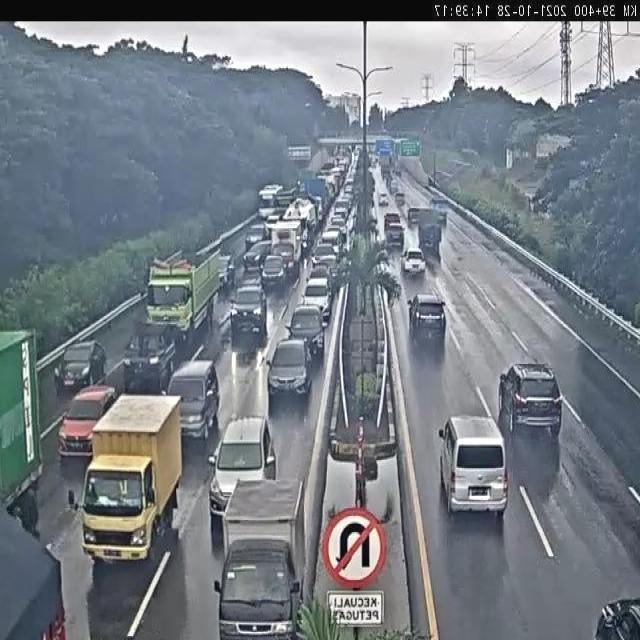Bus: (256, 183, 285, 221)
Car: (206, 414, 278, 534), (439, 415, 509, 518), (162, 359, 222, 445), (498, 362, 562, 441), (56, 382, 120, 458), (121, 322, 177, 392), (266, 337, 312, 404), (55, 340, 107, 394), (228, 282, 268, 344), (408, 292, 446, 352), (288, 302, 326, 360), (300, 276, 332, 324), (260, 253, 288, 293), (243, 240, 272, 272), (237, 268, 263, 300), (307, 260, 333, 288), (244, 222, 268, 252), (402, 246, 426, 275), (217, 254, 235, 290), (386, 221, 407, 247), (312, 240, 338, 260), (320, 230, 341, 253), (264, 210, 283, 234), (330, 216, 348, 240), (333, 199, 349, 221), (384, 213, 401, 233), (407, 206, 421, 224), (327, 223, 342, 236), (395, 191, 405, 207), (378, 192, 389, 206), (389, 178, 398, 194), (330, 212, 344, 222), (344, 179, 354, 193), (394, 167, 402, 177)
Truck: (68, 390, 187, 572), (212, 475, 310, 639), (0, 325, 46, 534), (143, 245, 221, 350), (268, 219, 304, 282), (283, 196, 317, 256), (417, 207, 442, 253), (303, 177, 329, 217), (272, 182, 300, 216), (430, 196, 450, 223), (380, 163, 392, 181)
